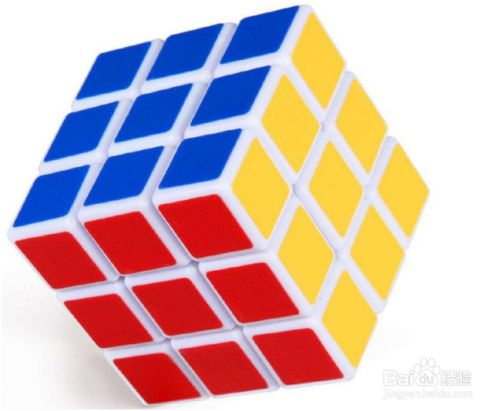cube: (9, 4, 437, 401)
